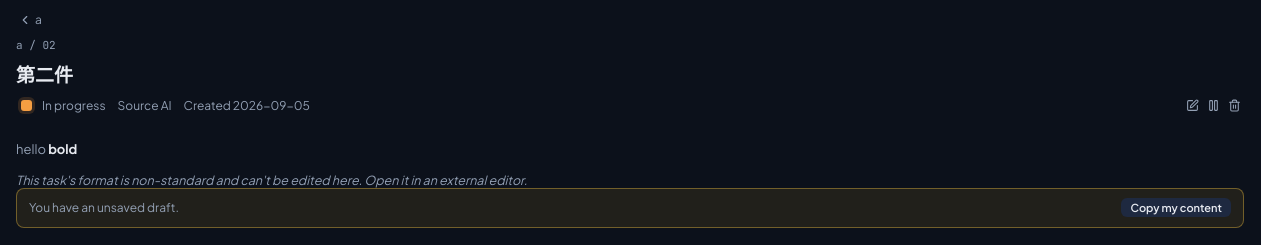
Test: TaskDetail › 票：editable:false 藏編輯鍵、顯示不可編輯說明；有救援草稿時給複製、不給丟棄
Expected: the text "This task's format is non-standard and can't be edited here. Open it in an external editor." is shown, [16, 172, 527, 188]
Click the button "Copy my content".
click(1176, 208)  # box [1122, 198, 1231, 217]
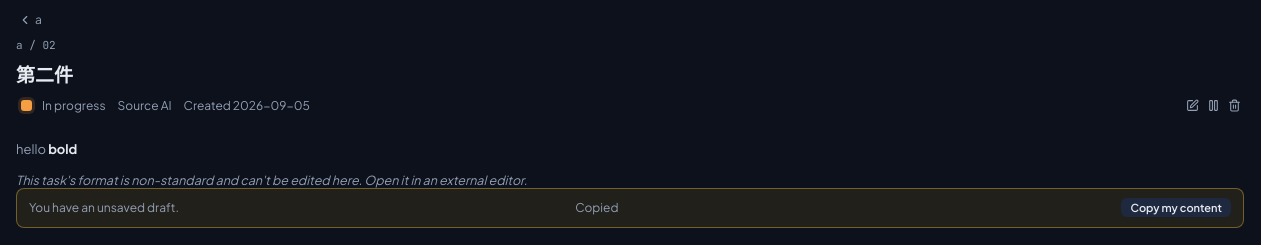
Expected: the element with class "is-draft" is shown, [16, 188, 1244, 228]
Now the text "Copied" is shown, box [575, 200, 618, 215]
